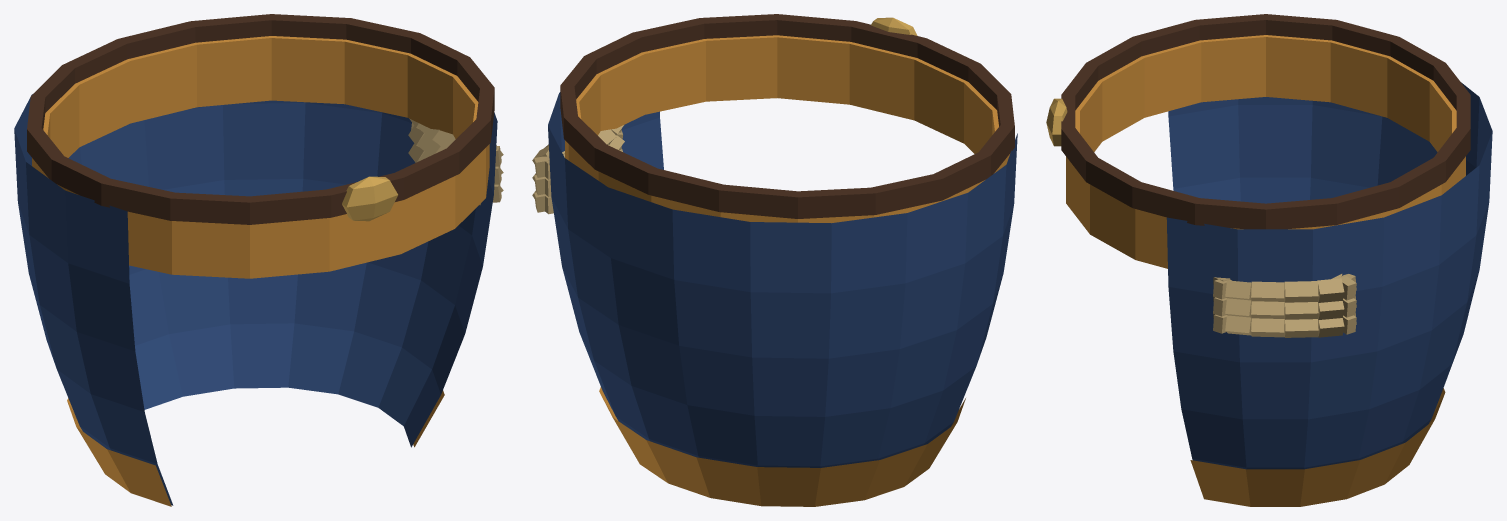
Rendered from kitewing_chief_tails.glb.
3 views of the same model, side by side, from view 1: azimuth 30°, elevation 25°; view 2: azimuth 150°, elevation 25°; view 3: azimuth 270°, elevation 25° (orthographic). The views are drawn at different scales.
Visible parts, largest first — view 1: kitewing_chief_tails; view 2: kitewing_chief_tails; view 3: kitewing_chief_tails.
Part boxes in pixels (<box>): kitewing_chief_tails: <box>14,14,503,506</box>; kitewing_chief_tails: <box>532,14,1017,506</box>; kitewing_chief_tails: <box>1046,14,1492,506</box>.
Size of the model in its own units: 1.03 by 0.7977 by 0.945.
